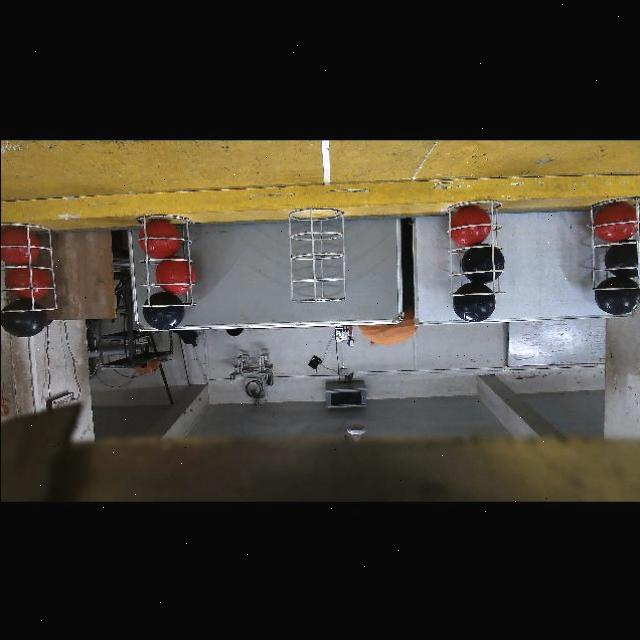P: (594, 275, 640, 314), (0, 298, 45, 336), (461, 242, 502, 282), (603, 237, 640, 276), (143, 292, 183, 328), (454, 284, 493, 319)
R: (138, 218, 181, 257), (3, 263, 49, 298), (450, 204, 490, 243), (595, 201, 635, 240), (154, 255, 195, 293), (0, 227, 39, 262)
S: (130, 214, 196, 312), (445, 200, 505, 302), (286, 207, 346, 303), (581, 200, 639, 292), (0, 219, 56, 311)
